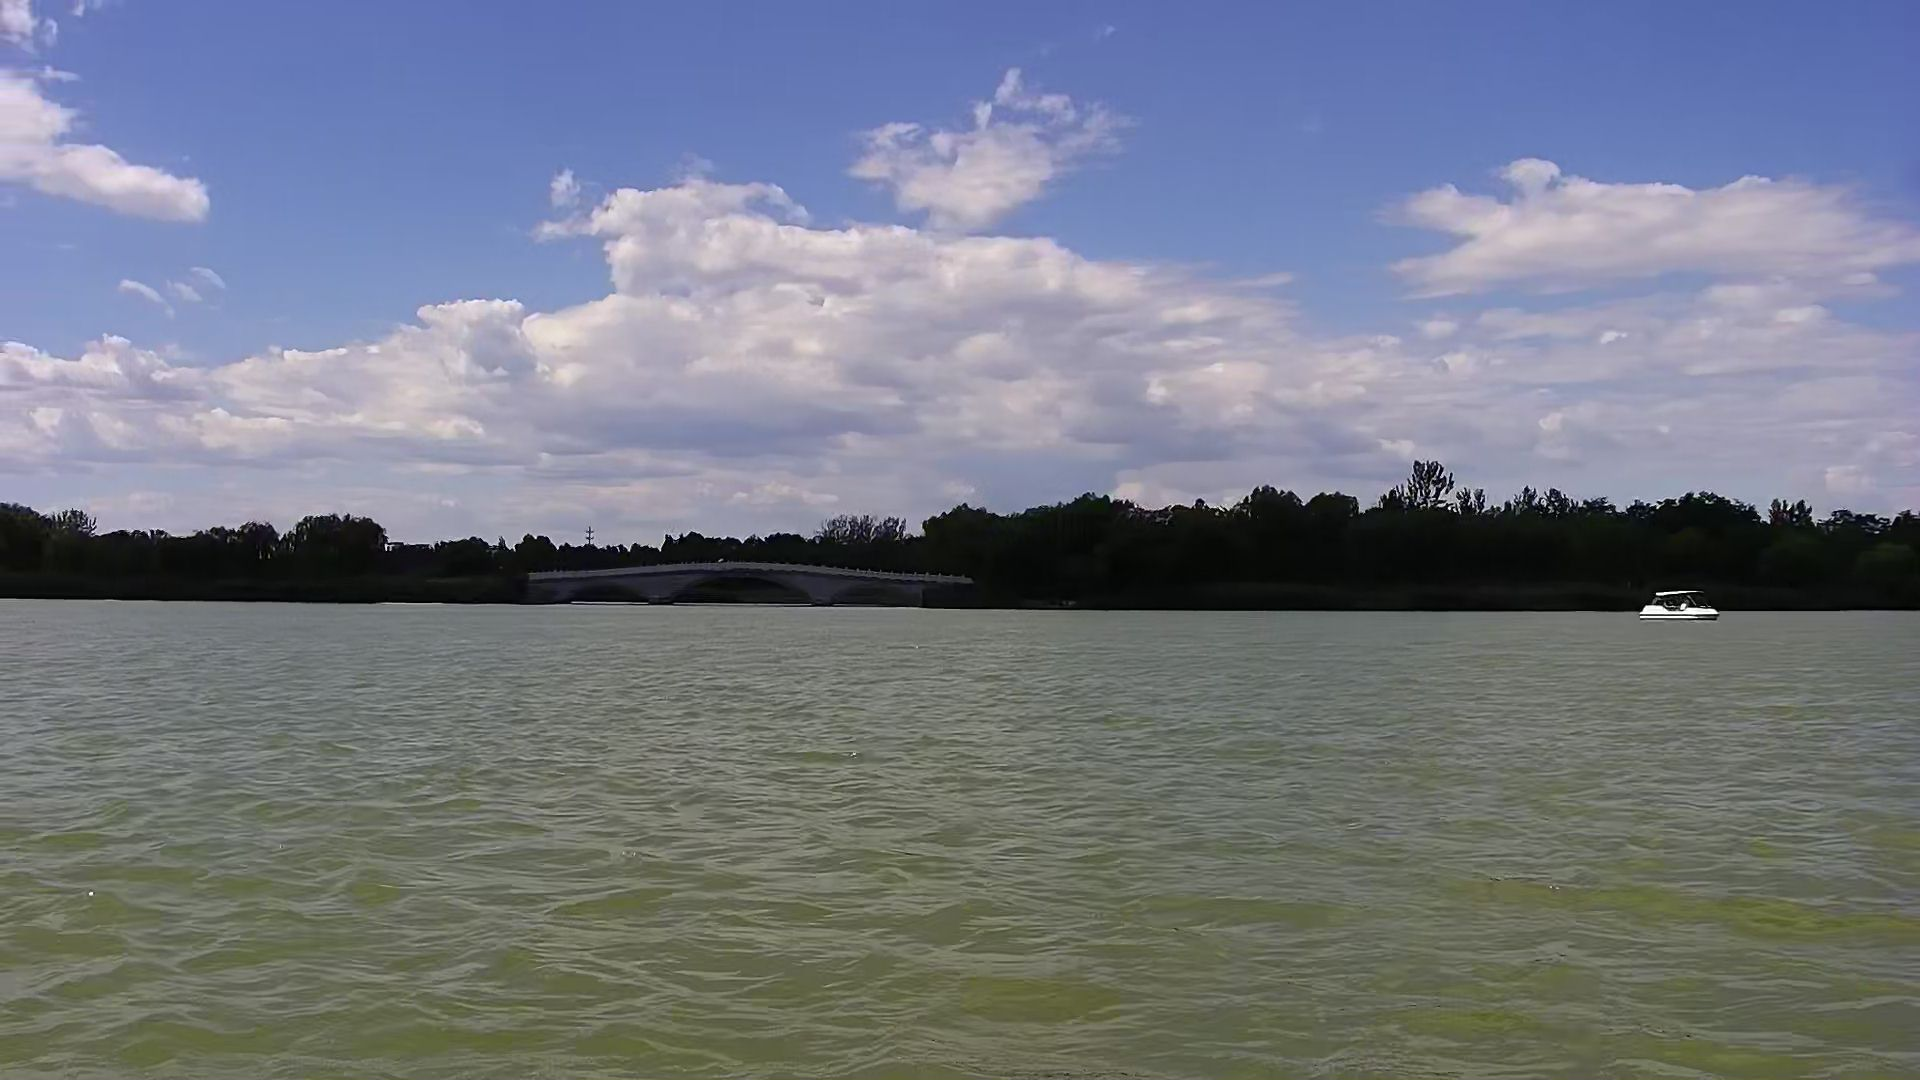boat: (1636, 582, 1721, 630)
bridge: (516, 550, 977, 618)
